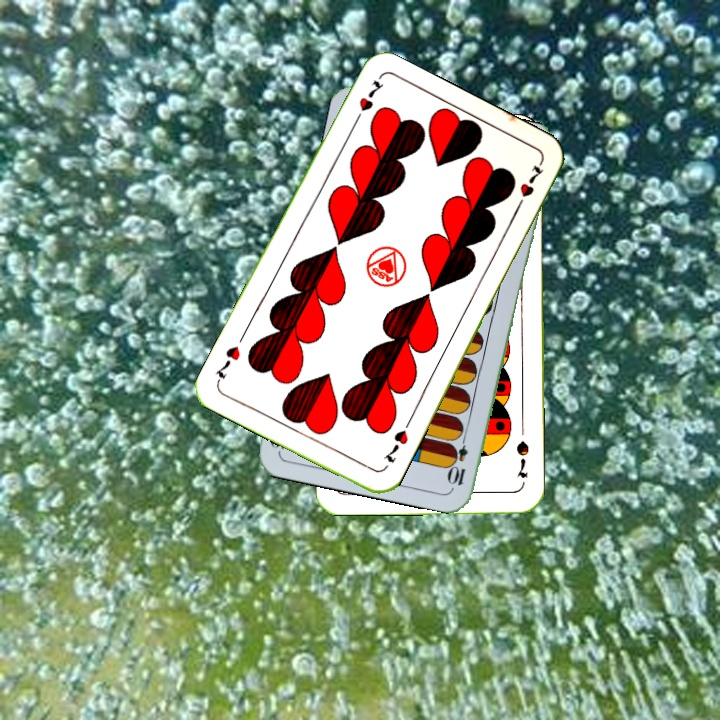E10: (447, 429, 471, 488)
H7: (349, 76, 387, 128), (380, 425, 411, 465)
S7: (512, 436, 532, 480)
